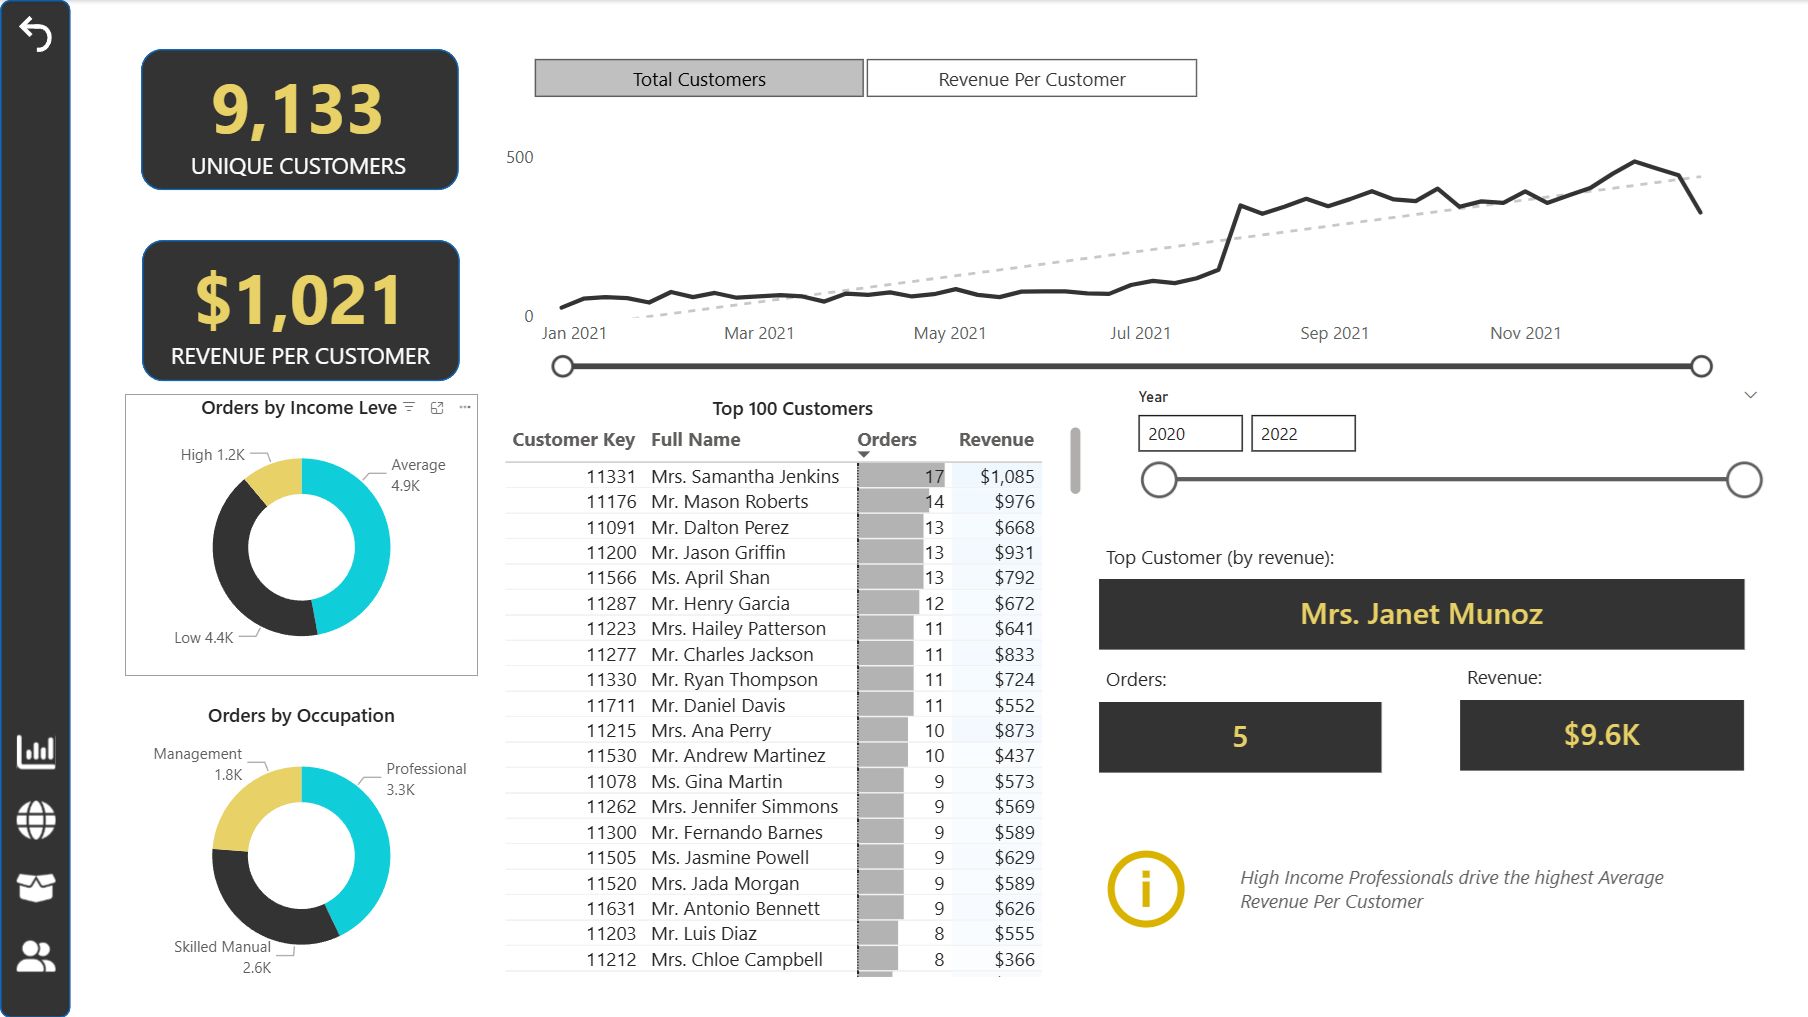

The page's visual inventory and layout, read from the dashboard file:
{"tool":"powerbi","page":{"name":"Customer Detail","canvas":[1280,720],"ordinal":3},"visuals":[{"type":"lineChart","fields":{"Y":["MeasuresTable.Total Customers"],"Category":["Calendar Lookup.Date Hierarchy.Year","Calendar Lookup.Date Hierarchy.MonthInCalendar","Calendar Lookup.Date Hierarchy.Start of Week","Calendar Lookup.Date Hierarchy.Date"]},"box":[352.2,74.4,882.2,195.6],"z":0},{"type":"actionButton","title":"btnNavCustomerDetail","box":[7.8,658.8,35.6,35.6],"z":0,"group":"g1"},{"type":"shape","title":"LeftNavBackground","box":[0,0,50,720.6],"z":1000},{"type":"actionButton","title":"btnNavExecDashboard","box":[7.8,514.4,35.6,35.6],"z":1000,"group":"g1"},{"type":"group","id":"g1","title":"NavButtons","box":[7.8,514.4,35.6,180],"z":2000},{"type":"actionButton","title":"btnNavMap","box":[7.8,562.5,35.6,35.6],"z":2000,"group":"g1"},{"type":"shape","title":"KPIBkgnd1","box":[100,34.6,225,100],"z":3000},{"type":"actionButton","title":"btnNavProductDetail","box":[7.8,610.7,35.6,35.6],"z":3000,"group":"g1"},{"type":"shape","title":"KPIBkgnd2","box":[100.8,170,225,100],"z":4000},{"type":"card","title":"crd-UniqueCustomers","fields":{"Values":["MeasuresTable.Total Customers"]},"box":[111.3,34.6,200,100],"z":5000},{"type":"card","title":"crd-RevenuePerCustomer","fields":{"Values":["MeasuresTable.Average Revenue Per Customer"]},"box":[112.8,170,200,99.3],"z":6000},{"type":"donutChart","title":"Orders by Income Level","fields":{"Category":["Customer Lookup.Income Level"],"Y":["MeasuresTable.Total Orders"]},"box":[88.3,278.7,250,200],"z":7000},{"type":"donutChart","title":"Orders by Occupation","fields":{"Y":["MeasuresTable.Total Orders"],"Category":["Customer Lookup.Occupation"]},"box":[88.3,496.9,249.7,200.5],"z":8000},{"type":"tableEx","title":"Top 100 Customers","fields":{"Values":["Customer Lookup.CustomerKey","Customer Lookup.Full Name","MeasuresTable.Total Orders","MeasuresTable.Total Revenue"]},"box":[351.8,280,418.7,417.4],"z":9000},{"type":"card","fields":{"Values":["MeasuresTable.Full Name (Customer Detail)"]},"box":[777.8,410.1,456.5,50.4],"z":10000},{"type":"textbox","box":[777.8,379.9,456.5,30.3],"z":11000},{"type":"card","fields":{"Values":["MeasuresTable.Total Revenue (Customer Detail)"]},"box":[1033.8,495.6,200.5,50.4],"z":12000},{"type":"textbox","box":[1033.8,465.4,200.5,30.3],"z":13000},{"type":"card","fields":{"Values":["MeasuresTable.Total Orders (Customer Detail)"]},"box":[777.8,496.8,200,50],"z":14000},{"type":"textbox","box":[777.8,466.5,200,30.3],"z":15000},{"type":"slicer","fields":{"Values":["Calendar Lookup.YearNumber"]},"box":[792.9,269.5,463.8,108.8],"z":16000},{"type":"actionButton","title":"ResetButton","box":[7.5,6.2,35,35],"z":17000},{"type":"actionButton","title":"imgInsight","box":[778,595.9,453.3,66.7],"z":18000},{"type":"slicer","fields":{"Values":["Customer Metric Selection.Customer Metric Selection"]},"box":[352.2,34.4,518.9,40],"z":19000}]}

Visuals, with their boxes on the page's 1280x720 design canvas (x1, y1, x2, y2). These are canvas units, not pixel positions in the 1808x1017 screenshot, which may show the page scaled, cropped or inside an application window:
lineChart - MeasuresTable.Total Customers x Calendar Lookup.Date Hierarchy.Year: bbox(352, 74, 1234, 270)
"btnNavCustomerDetail" actionButton: bbox(8, 659, 43, 694)
"LeftNavBackground" shape: bbox(0, 0, 50, 721)
"btnNavExecDashboard" actionButton: bbox(8, 514, 43, 550)
"NavButtons" group: bbox(8, 514, 43, 694)
"btnNavMap" actionButton: bbox(8, 562, 43, 598)
"KPIBkgnd1" shape: bbox(100, 35, 325, 135)
"btnNavProductDetail" actionButton: bbox(8, 611, 43, 646)
"KPIBkgnd2" shape: bbox(101, 170, 326, 270)
"crd-UniqueCustomers" card: bbox(111, 35, 311, 135)
"crd-RevenuePerCustomer" card: bbox(113, 170, 313, 269)
"Orders by Income Level" donutChart: bbox(88, 279, 338, 479)
"Orders by Occupation" donutChart: bbox(88, 497, 338, 697)
"Top 100 Customers" tableEx: bbox(352, 280, 770, 697)
card - MeasuresTable.Full Name (Customer Detail): bbox(778, 410, 1234, 460)
textbox: bbox(778, 380, 1234, 410)
card - MeasuresTable.Total Revenue (Customer Detail): bbox(1034, 496, 1234, 546)
textbox: bbox(1034, 465, 1234, 496)
card - MeasuresTable.Total Orders (Customer Detail): bbox(778, 497, 978, 547)
textbox: bbox(778, 466, 978, 497)
slicer - Calendar Lookup.YearNumber: bbox(793, 270, 1257, 378)
"ResetButton" actionButton: bbox(8, 6, 42, 41)
"imgInsight" actionButton: bbox(778, 596, 1231, 663)
slicer - Customer Metric Selection.Customer Metric Selection: bbox(352, 34, 871, 74)
